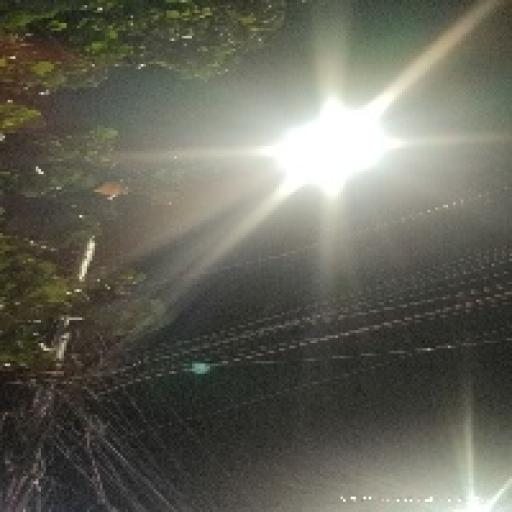Working: (256, 88, 414, 202)
